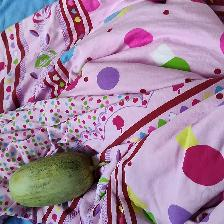gua: (11, 156, 94, 205)
